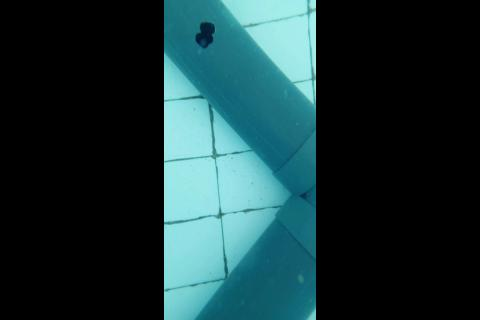kebocoran: (195, 21, 218, 51)
